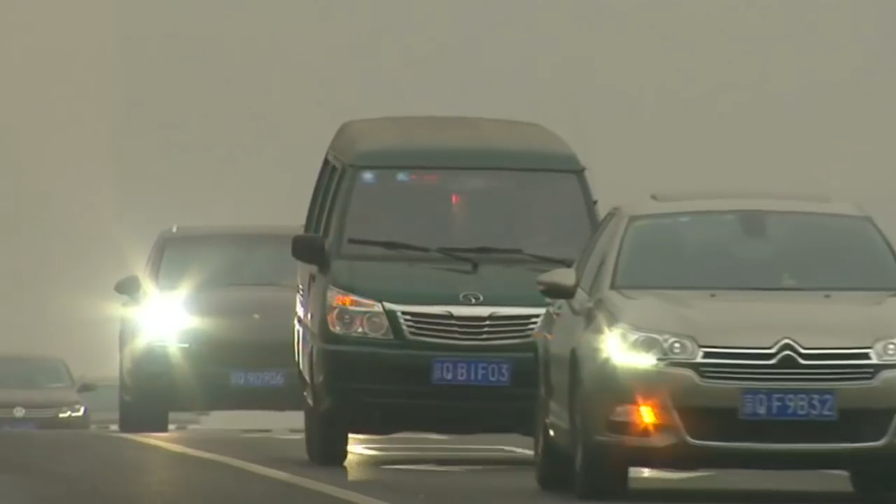car: (529, 186, 896, 504), (289, 113, 615, 468), (114, 219, 379, 437), (1, 354, 99, 437)
